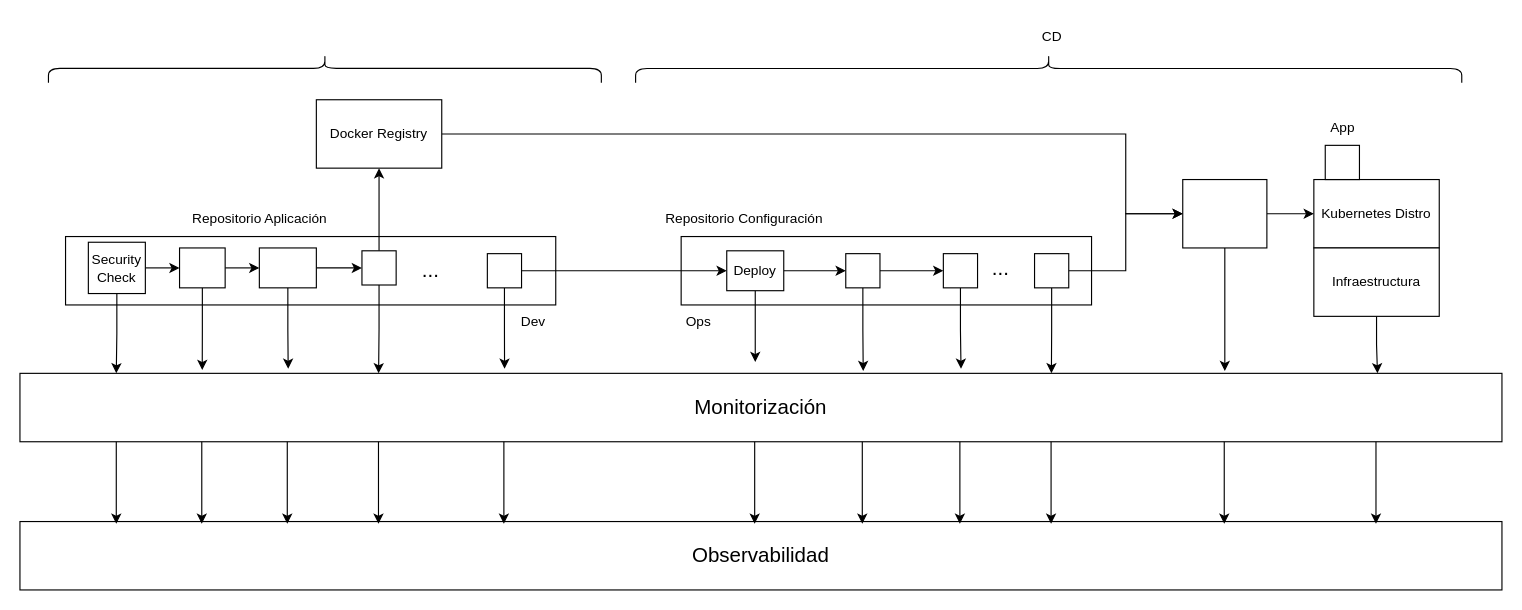
The diagram is 1522 pixels wide and 610 high, and some of its shapes have lost their labels. The shapes that lost their labels are listed below. From the top down, each one's centre as x and y in pixels, then its label:
point 324,68: CI
point 1224,213: GitOps Controller
point 201,267: Build
point 287,267: Analysis
